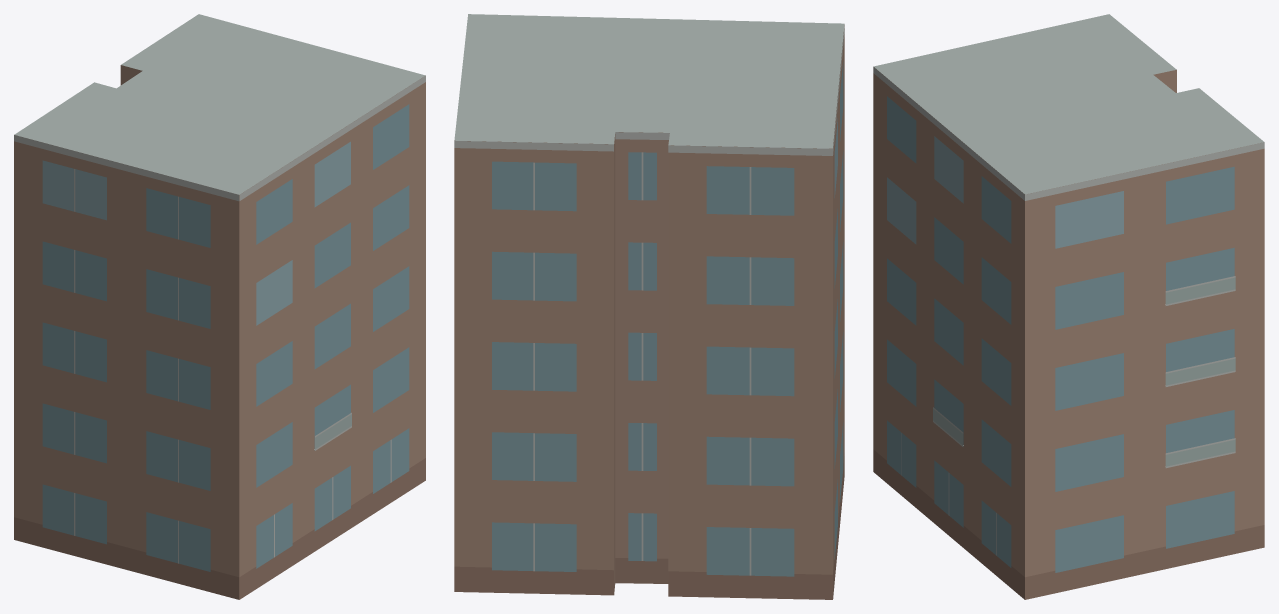
Rendered from survey-upis-32768299.glb.
3 views of the same model, side by side, from view 1: azimuth 30°, elevation 25°; view 2: azimuth 150°, elevation 25°; view 3: azimuth 270°, elevation 25° (orthographic). The views are drawn at different scales.
Visible parts, largest first — view 1: survey-upis-32768299.tmp; view 2: survey-upis-32768299.tmp; view 3: survey-upis-32768299.tmp.
Part boxes in pixels (x1,y1,x2,y2): survey-upis-32768299.tmp: [14, 14, 425, 599]; survey-upis-32768299.tmp: [454, 14, 844, 599]; survey-upis-32768299.tmp: [873, 14, 1264, 599].
Bounding box in the file's own units: 14.48 × 15.15 × 13.26.
